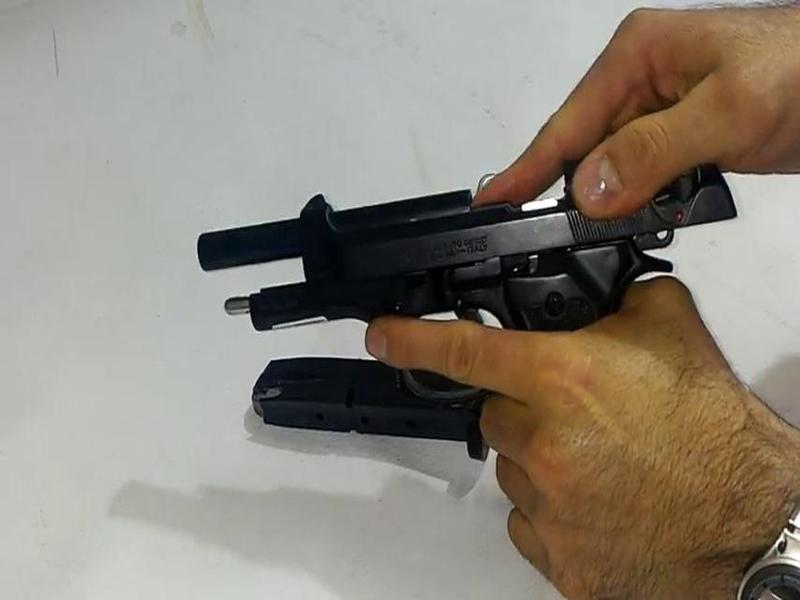Pistola: (205, 132, 762, 482)
